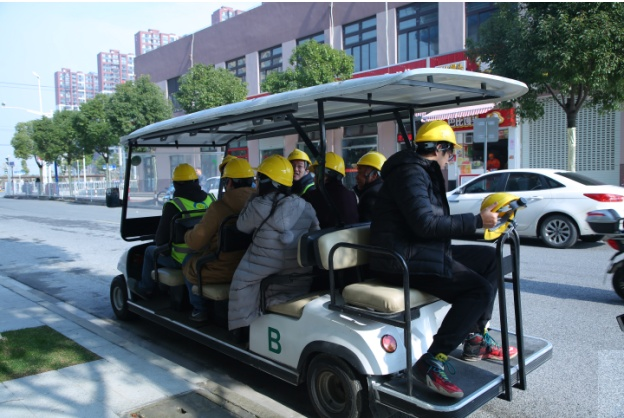yellow: (414, 120, 457, 170), (253, 156, 292, 200), (352, 150, 386, 188), (218, 158, 252, 194), (168, 163, 199, 194), (318, 152, 346, 186), (286, 150, 310, 180)
